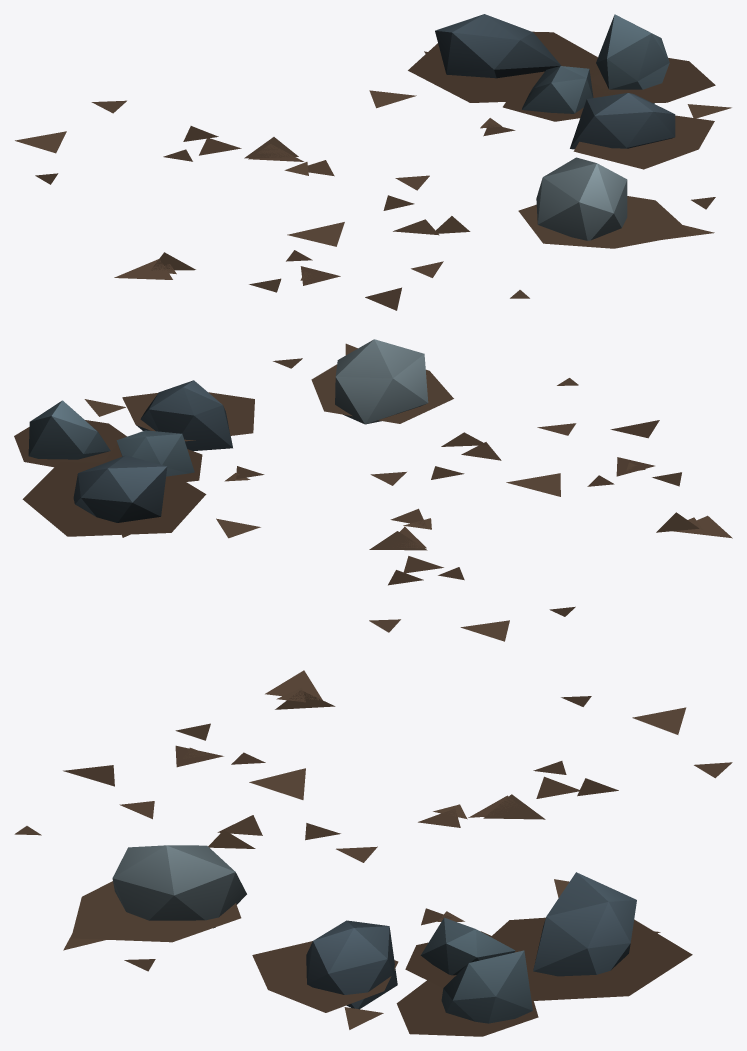
The model's file is iron-ore-sparse.glb.
3 renders of one model, top to bottom at view 1: azimuth 30°, elevation 25°; view 2: azimuth 150°, elevation 25°; view 3: azimuth 270°, elevation 25°, orthographic. The views are drawn at different scales.
Visible parts, largest first — view 1: iron-ore-sparse; view 2: iron-ore-sparse; view 3: iron-ore-sparse.
Part boxes in pixels (x1,y1,x2,y2): iron-ore-sparse: (15, 14, 731, 310); iron-ore-sparse: (14, 339, 732, 641); iron-ore-sparse: (14, 670, 732, 1036).
Size of the model in its own units: 1.38 by 0.1474 by 1.14.
